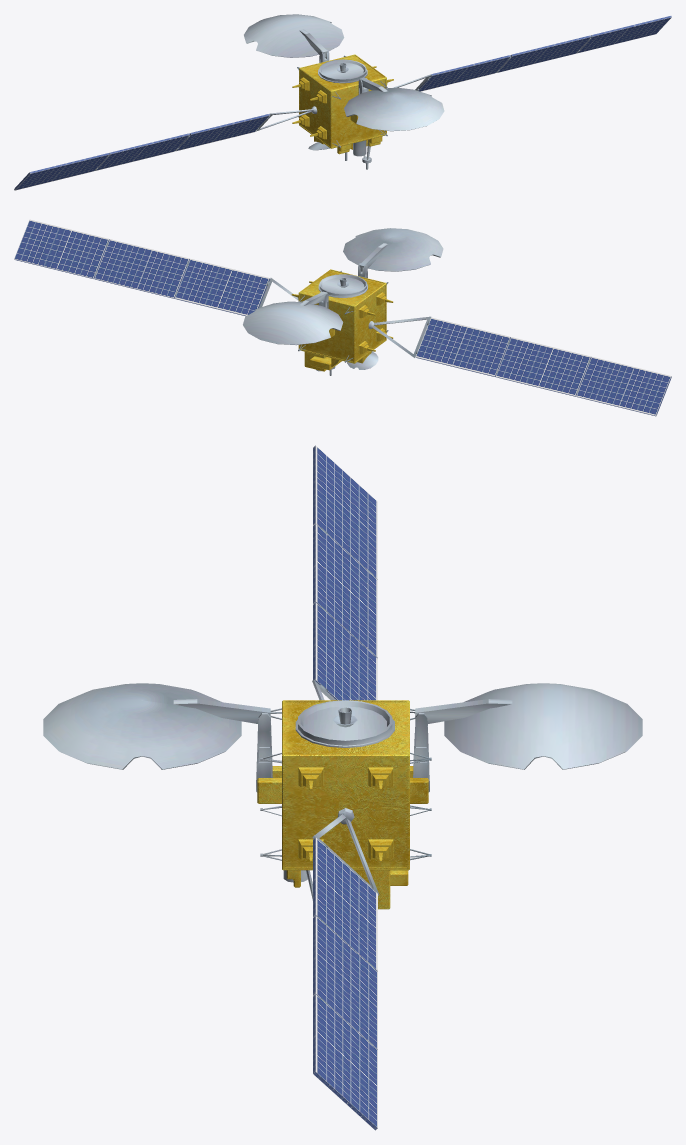
The model's file is WeiXing4.gltf.
3 renders of one model, top to bottom at view 1: azimuth 30°, elevation 25°; view 2: azimuth 150°, elevation 25°; view 3: azimuth 270°, elevation 25°, orthographic. The views are drawn at different scales.
Visible parts, largest first — view 1: WeiXing401, WeiXing402, WeiXing400; view 2: WeiXing402, WeiXing401, WeiXing400; view 3: WeiXing401, WeiXing402, WeiXing400.
Part boxes in pixels (<box>): WeiXing401: <box>95,14,591,169</box>; WeiXing402: <box>14,16,671,190</box>; WeiXing400: <box>292,54,393,154</box>; WeiXing402: <box>14,219,671,416</box>; WeiXing401: <box>94,228,590,393</box>; WeiXing400: <box>291,269,393,371</box>; WeiXing401: <box>43,527,642,1045</box>; WeiXing402: <box>313,445,377,1130</box>; WeiXing400: <box>257,700,428,909</box>.
Bounding box in the file's own units: 3.02 × 0.4976 × 1.22.
3 materials, 3 textured.
